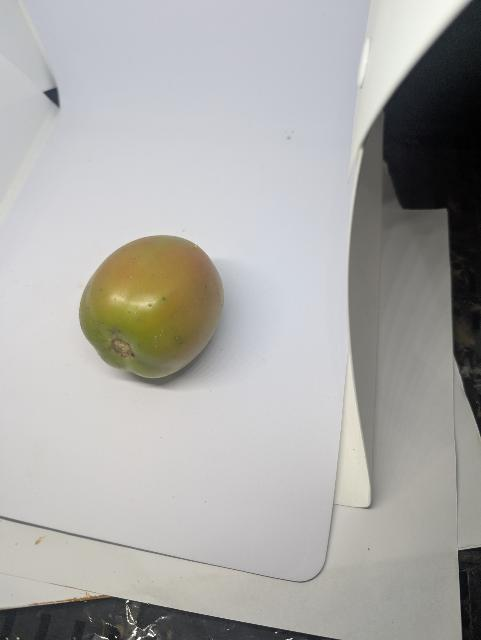breaker: (72, 227, 233, 381)
